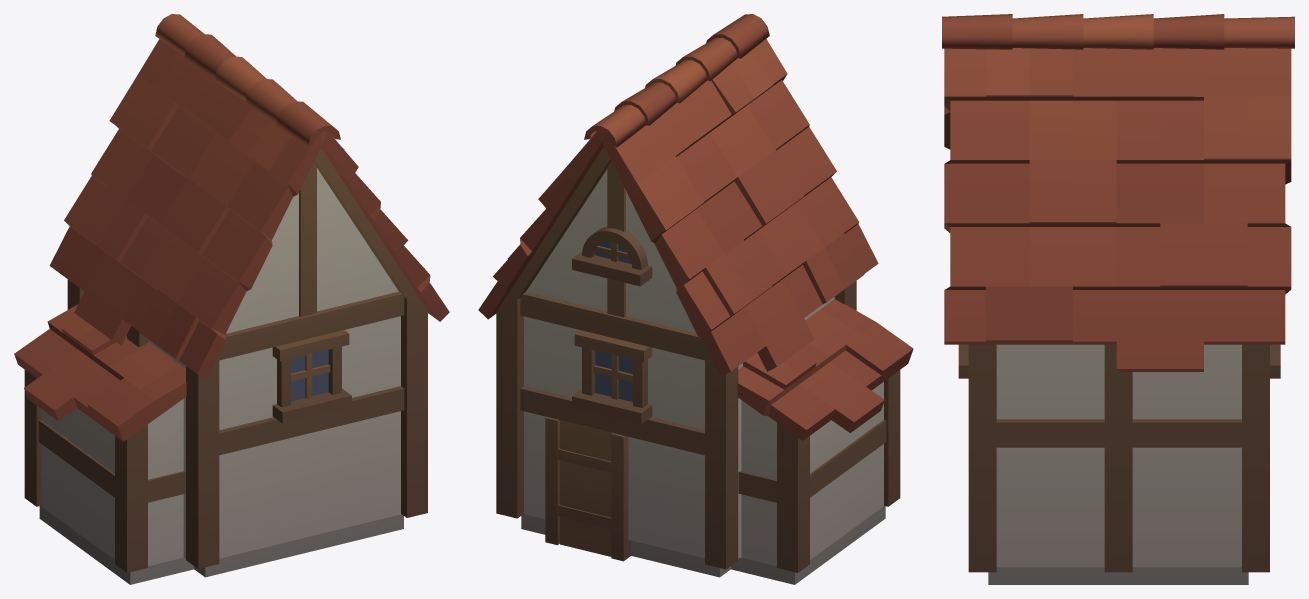
The model's file is house4.fbx.
3 renders of one model, left to right at view 1: azimuth 30°, elevation 25°; view 2: azimuth 150°, elevation 25°; view 3: azimuth 270°, elevation 25°, orthographic. The views are drawn at different scales.
Visible parts, largest first — view 1: house4; view 2: house4; view 3: house4.
Boxes of the visible parts, <box> form: house4: <box>14,14,449,584</box>; house4: <box>478,14,913,584</box>; house4: <box>942,14,1294,584</box>.
Bounding box in the file's own units: 322 × 405 × 252.
